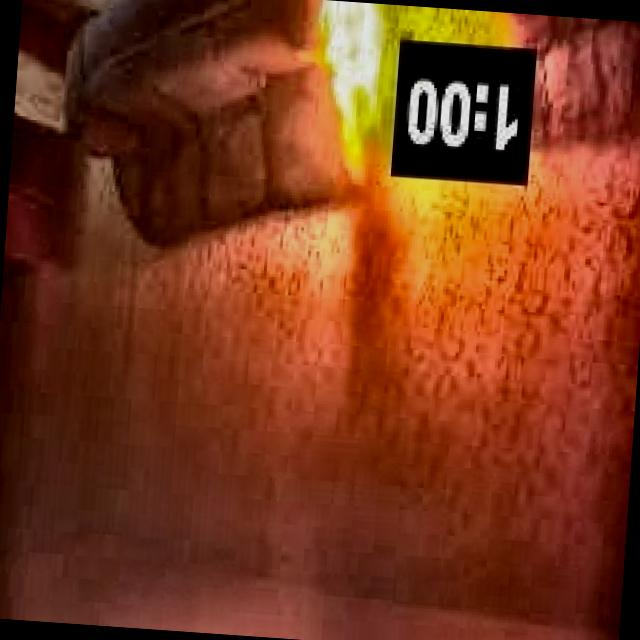fire: (317, 0, 399, 155)
